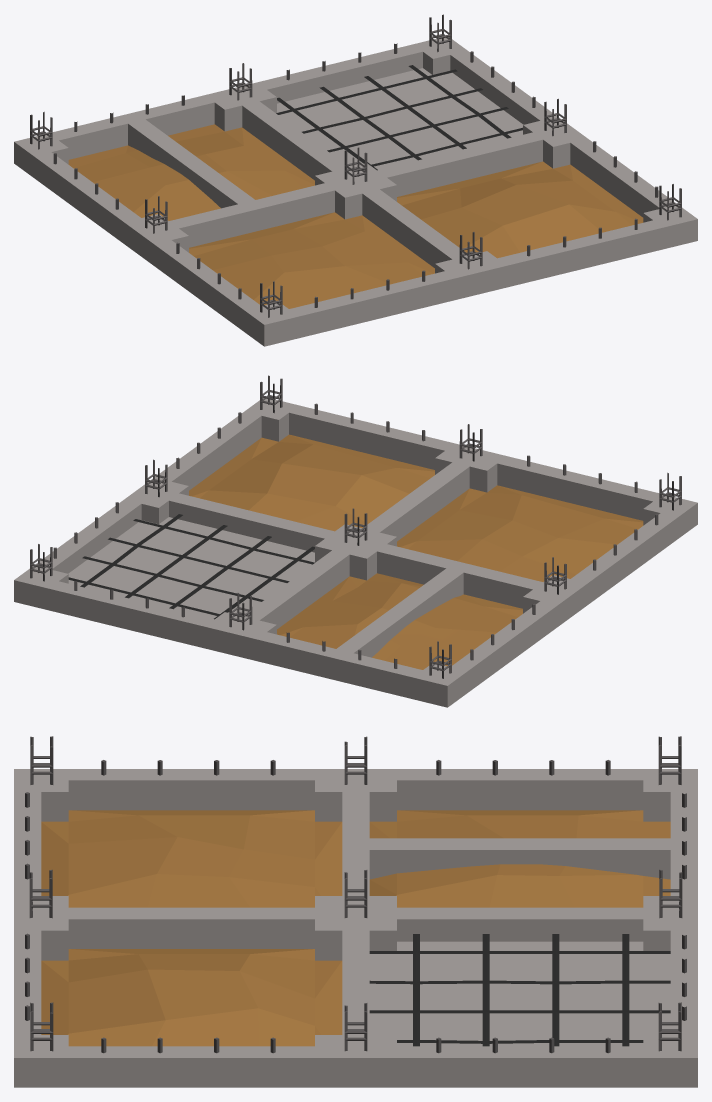
Rendered from construction-small.glb.
3 renders of one model, top to bottom at view 1: azimuth 30°, elevation 25°; view 2: azimuth 150°, elevation 25°; view 3: azimuth 270°, elevation 25°, orthographic. The views are drawn at different scales.
Visible parts, largest first — view 1: contruction-small-base; view 2: contruction-small-base; view 3: contruction-small-base.
Boxes of the visible parts, bbox=[...] form: contruction-small-base: bbox=[14, 14, 697, 346]; contruction-small-base: bbox=[14, 375, 697, 707]; contruction-small-base: bbox=[14, 736, 697, 1087].
Size of the model in its own units: 8.33 by 0.9286 by 8.33.
Materials: 1 (1 with a texture image).
